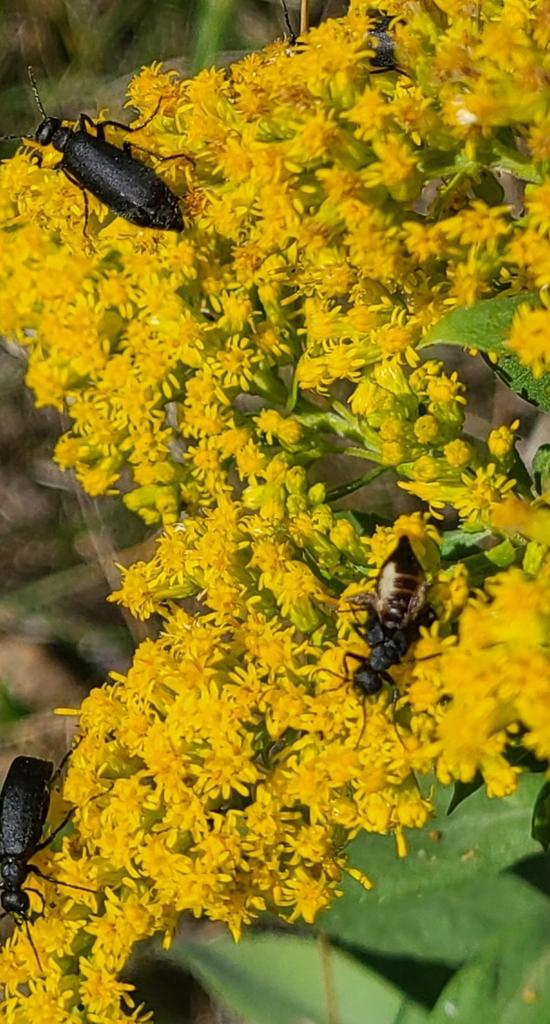blister_beetle: (0, 42, 228, 284), (281, 505, 502, 719), (0, 694, 125, 976)
